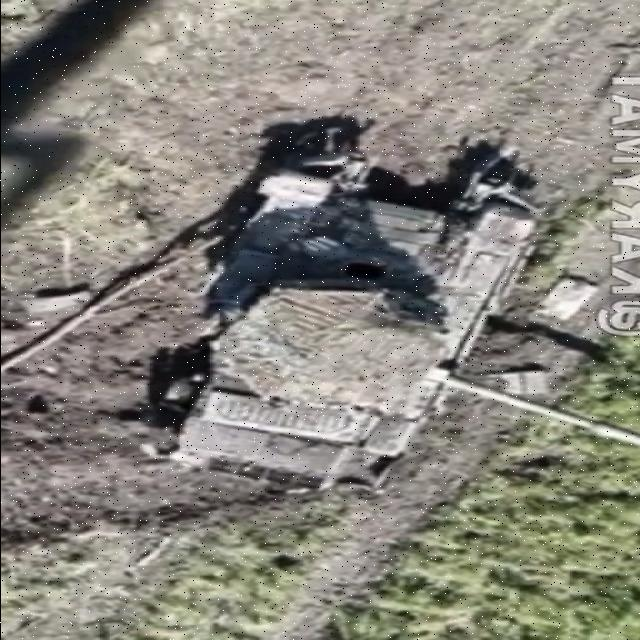TANK: (158, 128, 638, 502)
